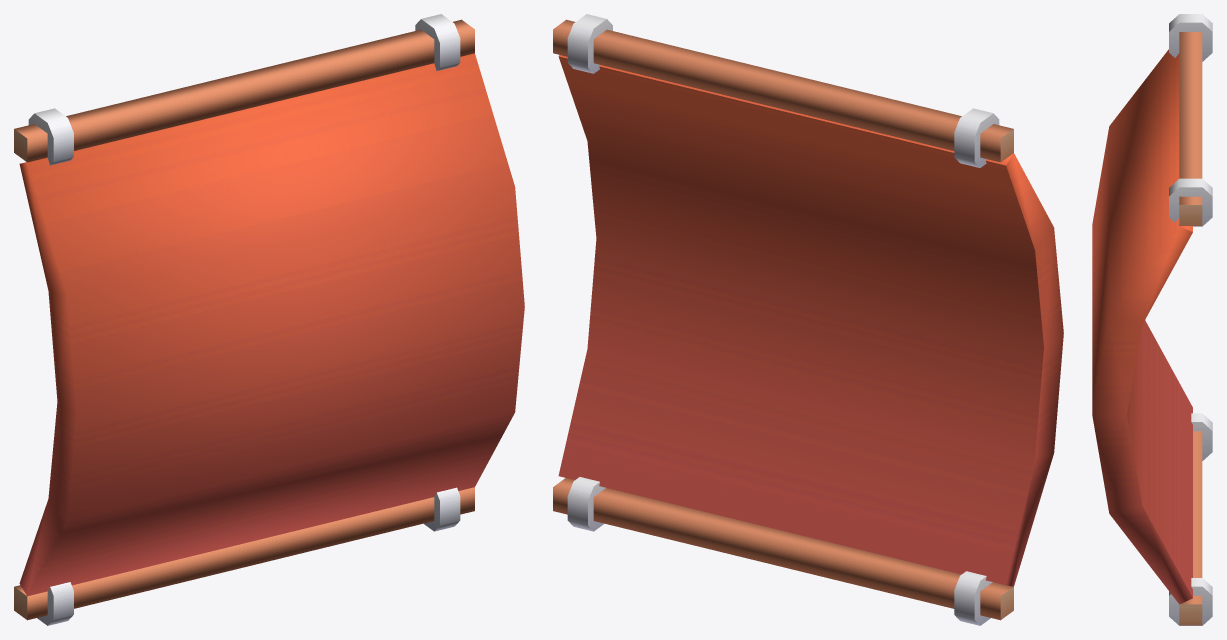
Rendered from sail_red.glb.
The picture shows the model from 3 angles, left to right: view 1: azimuth 30°, elevation 25°; view 2: azimuth 150°, elevation 25°; view 3: azimuth 270°, elevation 25°; orthographic projection. The views are drawn at different scales.
Visible parts, largest first — view 1: sail-a_red; view 2: sail-a_red; view 3: sail-a_red.
Boxes of the visible parts, x1,y1,x2,y2 form: sail-a_red: (14, 14, 524, 625); sail-a_red: (553, 14, 1063, 625); sail-a_red: (1092, 14, 1212, 625).
Size of the model in its own units: 4.4 by 4.72 by 1.18.
1 material, 1 textured.
